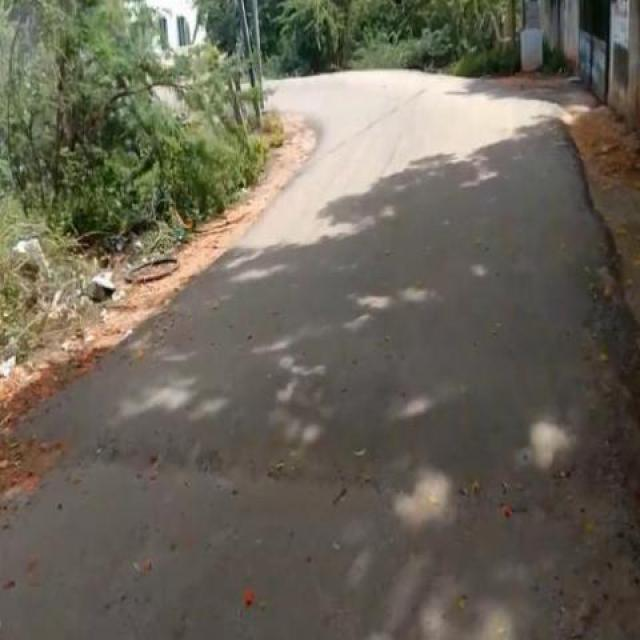Unmarked Bump: (19, 341, 638, 463)
